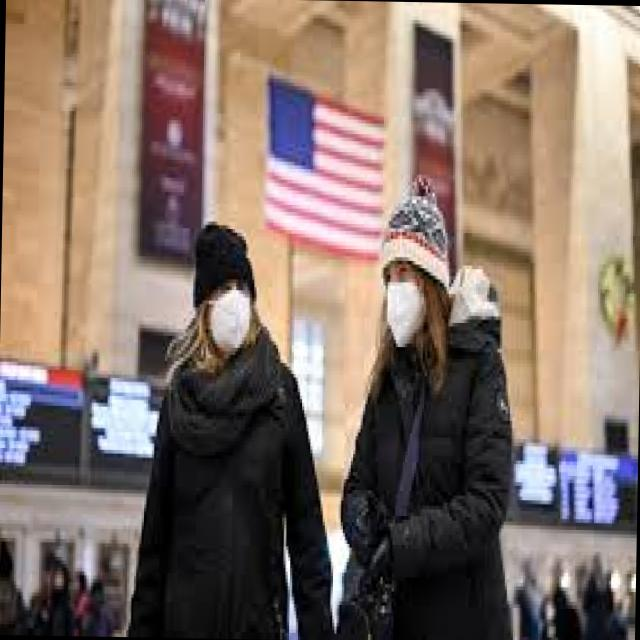Jacket: (108, 313, 342, 640), (337, 318, 527, 640)
